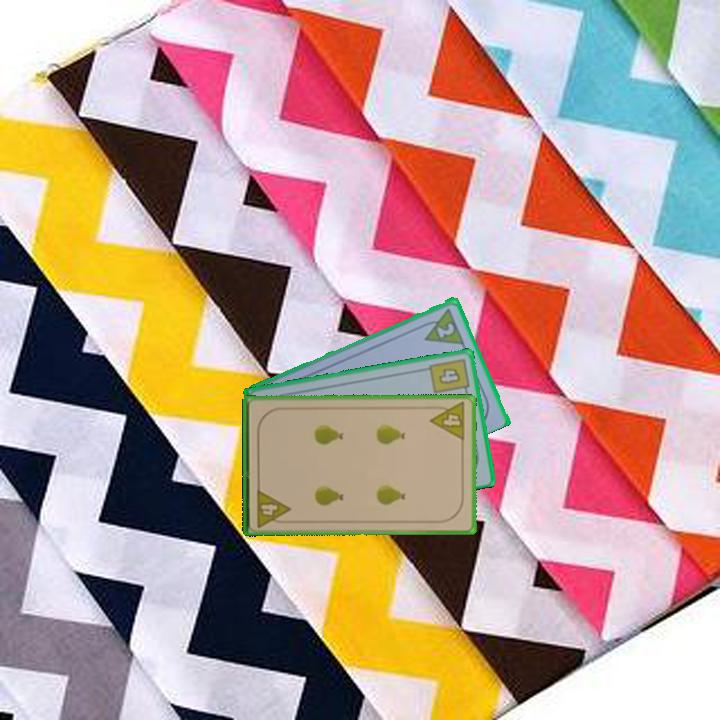2p: (433, 319, 457, 341)
4b: (426, 354, 472, 398)
4p: (427, 399, 468, 443), (253, 485, 292, 530)
